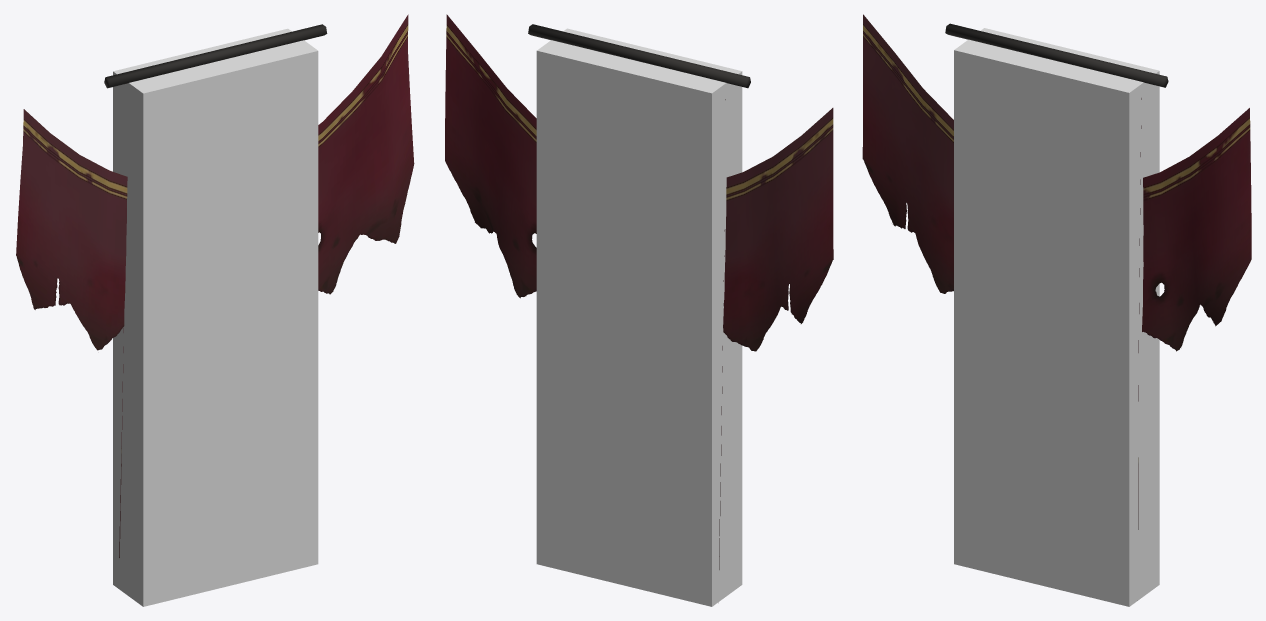
File: banners.low.webp.glb
3 renders of one model, left to right at view 1: azimuth 30°, elevation 25°; view 2: azimuth 150°, elevation 25°; view 3: azimuth 330°, elevation 25°, orthographic.
Visible parts, largest first — view 1: COL, BANNER_swag_l1, ROD_l1; view 2: COL, BANNER_swag_l1, ROD_l1; view 3: COL, BANNER_swag_l1, ROD_l1.
Boxes of the visible parts, <box> form: COL: <box>113,28,318,606</box>; BANNER_swag_l1: <box>16,14,414,350</box>; ROD_l1: <box>104,24,327,88</box>; COL: <box>536,28,742,606</box>; BANNER_swag_l1: <box>445,14,833,351</box>; ROD_l1: <box>528,24,750,88</box>; COL: <box>954,28,1159,606</box>; BANNER_swag_l1: <box>862,14,1251,351</box>; ROD_l1: <box>945,23,1168,87</box>.
Bounding box in the file's own units: 2.26 × 2.85 × 0.3001.
Materials: 2 (1 with a texture image).
